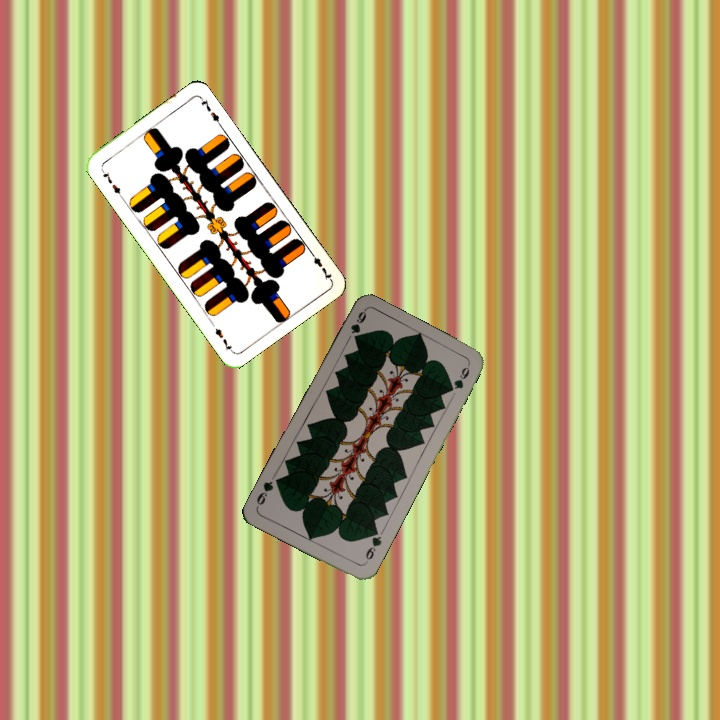E7: (306, 247, 334, 283), (97, 165, 125, 200)
G9: (360, 526, 384, 567), (346, 307, 369, 341)
